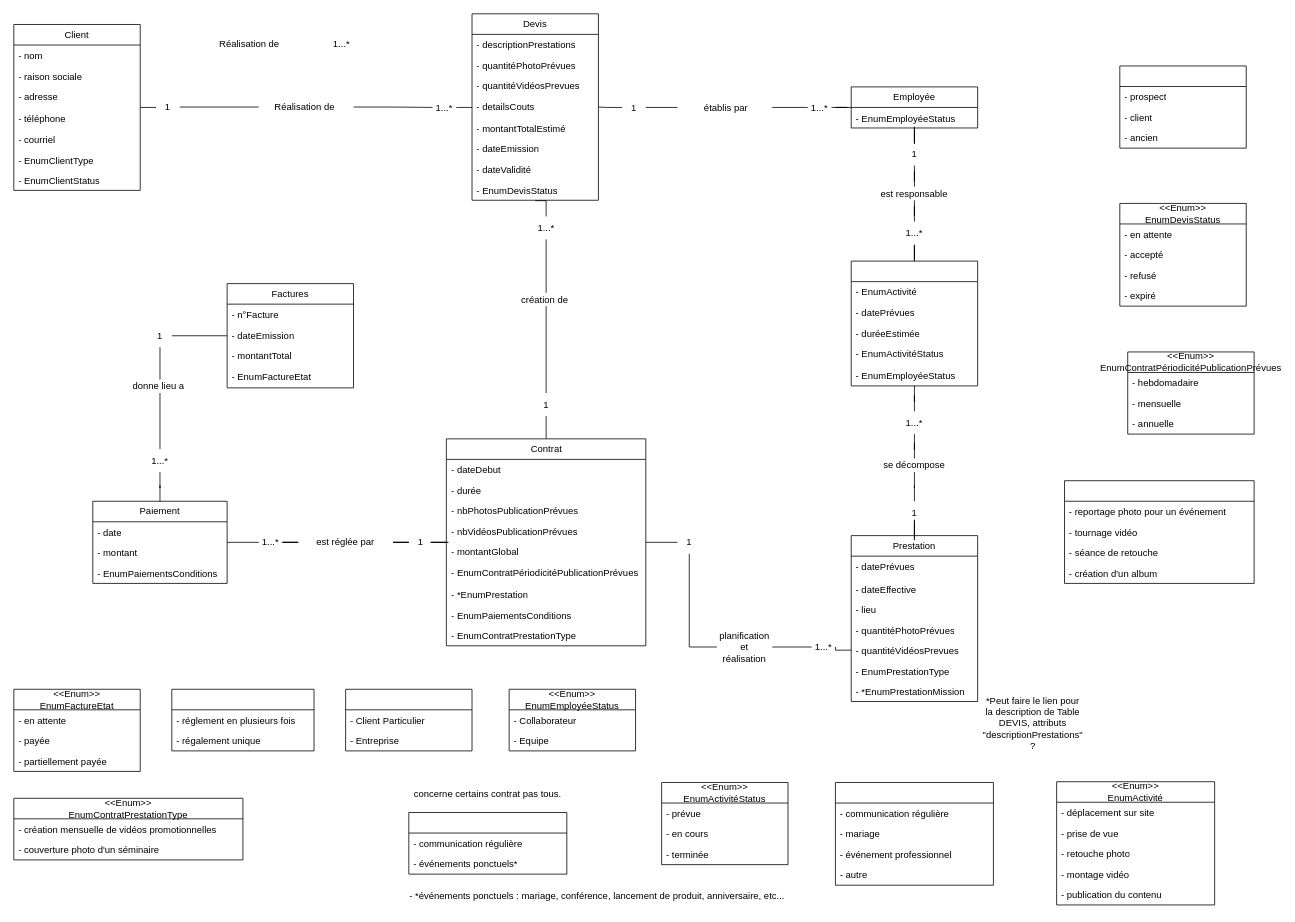
Image size: 1295x922. Some labels were removed from this diagram. Here are the shapes that lost their labels. From the top down, the box of each, then its label:
(1119, 65, 1246, 148): <<Enum>> EnumClientStatus
(850, 260, 978, 386): Acitivité
(1064, 480, 1254, 583): <<Enum>> EnumPrestationMission
(171, 688, 314, 751): <<Enum>> EnumPaiementsConditions
(345, 688, 472, 751): <<Enum>> EnumClientType
(408, 812, 567, 874): <<Enum>> *EnumPrestation
(835, 782, 993, 885): <<Enum>> EnumPrestationType
